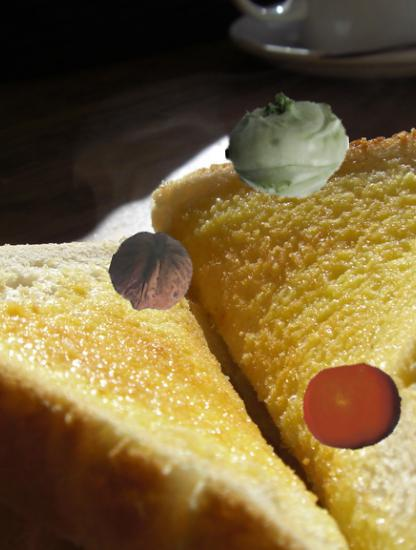Clementine: (302, 357, 404, 459)
Kohlrabi: (225, 83, 349, 207)
Walnut: (110, 230, 194, 314)
